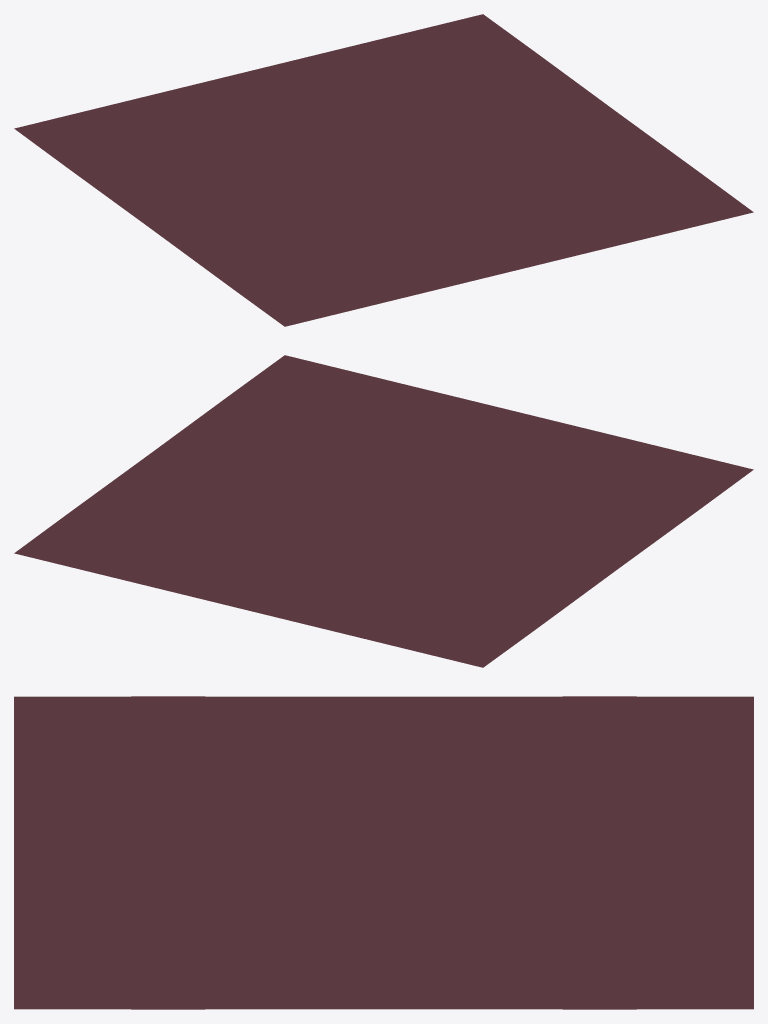
The model's file is tiles-nb-tile-runway-intersection-t-nb.glb.
The picture shows the model from 3 angles, top to bottom: view 1: azimuth 30°, elevation 25°; view 2: azimuth 150°, elevation 25°; view 3: azimuth 270°, elevation 25°; orthographic projection. The views are drawn at different scales.
Parts seen in each view (by area): view 1: tile-runway-intersection-t-nb; view 2: tile-runway-intersection-t-nb; view 3: tile-runway-intersection-t-nb.
Boxes of the visible parts, x1,y1,x2,y2 form: tile-runway-intersection-t-nb: [14, 14, 753, 326]; tile-runway-intersection-t-nb: [14, 355, 753, 667]; tile-runway-intersection-t-nb: [14, 696, 753, 1009].
Size of the model in its own units: 30.03 by 1.19e-06 by 30.
